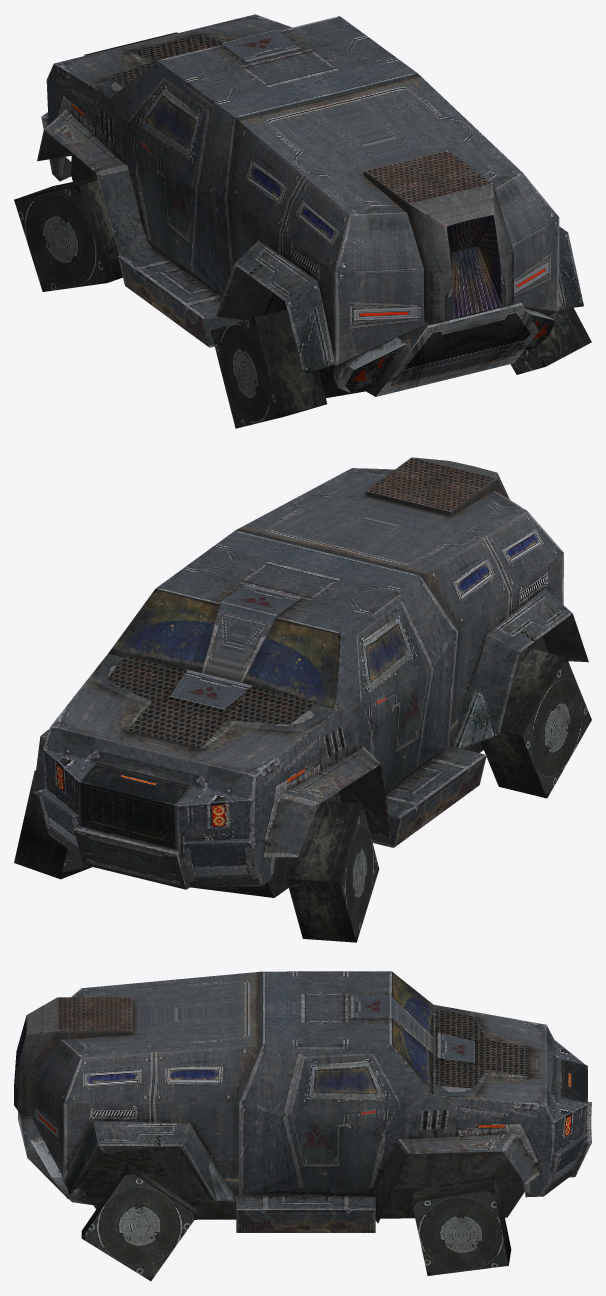
File: Vehicle_Car001_lod2.glb
The picture shows the model from 3 angles, top to bottom: view 1: azimuth 30°, elevation 25°; view 2: azimuth 150°, elevation 25°; view 3: azimuth 270°, elevation 25°; orthographic projection. The views are drawn at different scales.
Parts seen in each view (by area): view 1: tianwang_car001_lod2; view 2: tianwang_car001_lod2; view 3: tianwang_car001_lod2.
Boxes of the visible parts, x1=… form: tianwang_car001_lod2: x1=14, y1=14, x2=591, y2=428; tianwang_car001_lod2: x1=14, y1=457, x2=591, y2=942; tianwang_car001_lod2: x1=14, y1=971, x2=591, y2=1281.
Size of the model in its own units: 4 by 3.03 by 7.36.
Materials: 1 (1 with a texture image).
